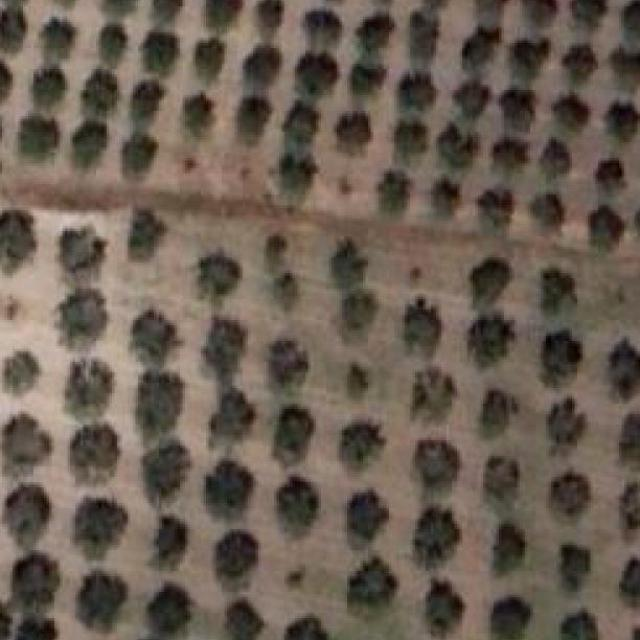Tree: (116, 203, 172, 274), (201, 456, 258, 521), (412, 440, 469, 499), (128, 304, 180, 368), (67, 501, 124, 559), (346, 553, 396, 617), (67, 424, 117, 488), (336, 487, 391, 544), (202, 532, 258, 587), (466, 383, 514, 445), (538, 331, 586, 392), (203, 388, 258, 441), (8, 487, 56, 547), (402, 362, 449, 423), (264, 407, 314, 464), (199, 318, 248, 376), (134, 375, 183, 433), (411, 508, 462, 563), (187, 247, 243, 296), (142, 578, 187, 638), (50, 297, 104, 347), (60, 364, 117, 411), (339, 419, 389, 472), (266, 477, 316, 529), (542, 396, 588, 452), (476, 310, 520, 368), (0, 343, 41, 405), (15, 555, 62, 609), (262, 336, 308, 391), (548, 466, 593, 522), (78, 574, 128, 624), (534, 268, 583, 318), (12, 116, 60, 167), (2, 414, 44, 472), (146, 441, 190, 496), (182, 35, 227, 88), (418, 585, 462, 639), (489, 132, 538, 180), (454, 22, 502, 71), (519, 190, 569, 237), (472, 184, 520, 232), (114, 132, 162, 180), (384, 113, 431, 162), (90, 20, 134, 72), (600, 341, 640, 398), (594, 153, 637, 206), (336, 289, 378, 343), (319, 242, 366, 290), (482, 521, 528, 570), (584, 205, 634, 250), (137, 30, 185, 76), (401, 15, 446, 64), (268, 150, 312, 200), (388, 74, 443, 114), (336, 354, 380, 404), (434, 118, 478, 167), (412, 177, 462, 220), (66, 116, 109, 166), (560, 38, 606, 84), (370, 170, 415, 217), (85, 72, 124, 126), (354, 7, 400, 52), (62, 231, 106, 278), (235, 48, 290, 85), (488, 592, 530, 640), (149, 517, 187, 570), (0, 205, 32, 267), (236, 90, 274, 142), (471, 258, 512, 306), (27, 64, 67, 113), (334, 104, 373, 154), (453, 72, 499, 113), (569, 0, 621, 36), (122, 82, 161, 130), (550, 545, 588, 594), (301, 51, 344, 94), (478, 460, 520, 504), (601, 98, 640, 144), (609, 482, 640, 539), (551, 93, 590, 137), (504, 36, 548, 75), (604, 40, 640, 86), (507, 88, 546, 130), (264, 271, 306, 310), (274, 109, 318, 146), (344, 62, 389, 98), (44, 19, 78, 65), (299, 12, 339, 51), (219, 600, 258, 640), (613, 553, 640, 609), (610, 412, 640, 462), (182, 92, 213, 140), (541, 137, 575, 180), (400, 302, 436, 342), (198, 0, 243, 32), (284, 613, 334, 640), (252, 0, 290, 30), (0, 12, 28, 52), (558, 615, 600, 640), (615, 0, 640, 39), (146, 0, 188, 23), (464, 0, 504, 23), (520, 0, 558, 23), (20, 613, 51, 640), (102, 0, 141, 15), (0, 597, 13, 640), (0, 66, 13, 106), (416, 0, 452, 14), (631, 210, 640, 256), (51, 0, 86, 8), (5, 0, 34, 6), (368, 0, 396, 5), (0, 111, 2, 150)
